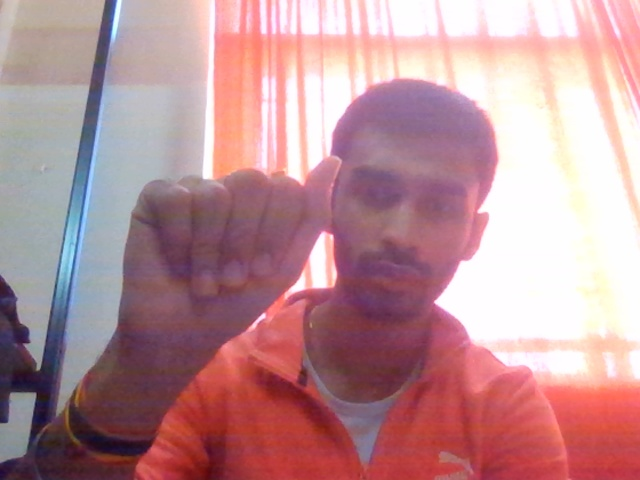A: (117, 138, 343, 436)
